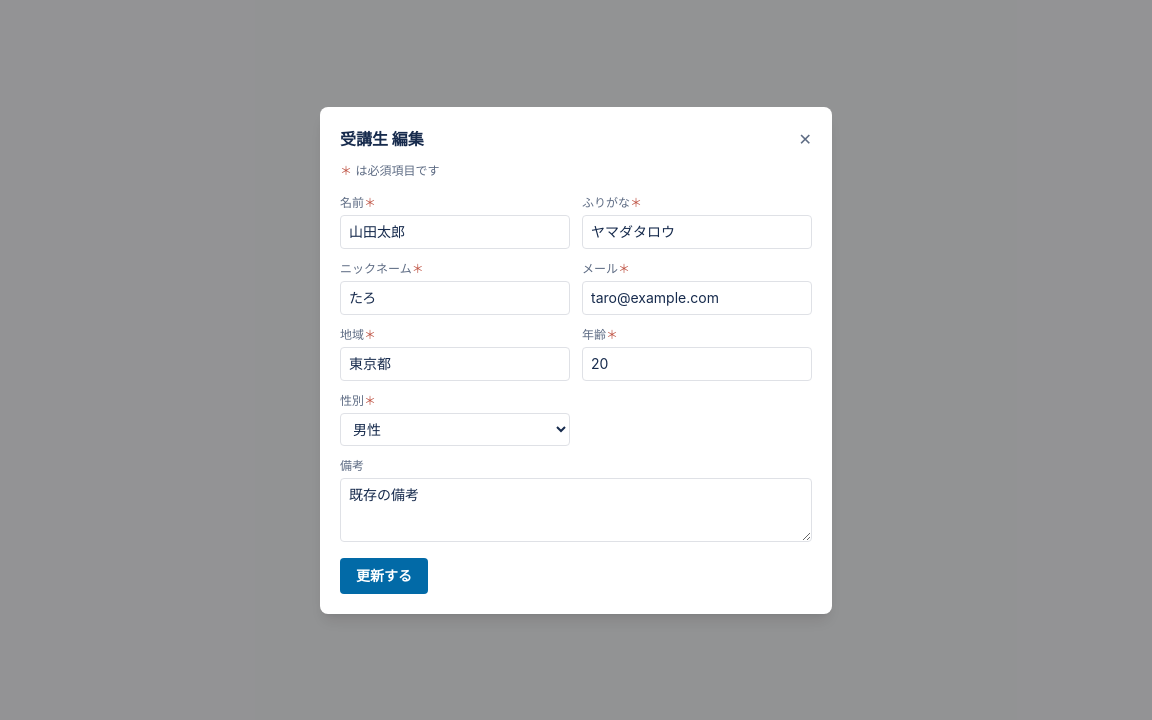
Scenario: EditStudentModal › shows a validation error when a required field is cleared
Clear the field labelled "名前＊" at (455, 232), box [340,214,570,248]
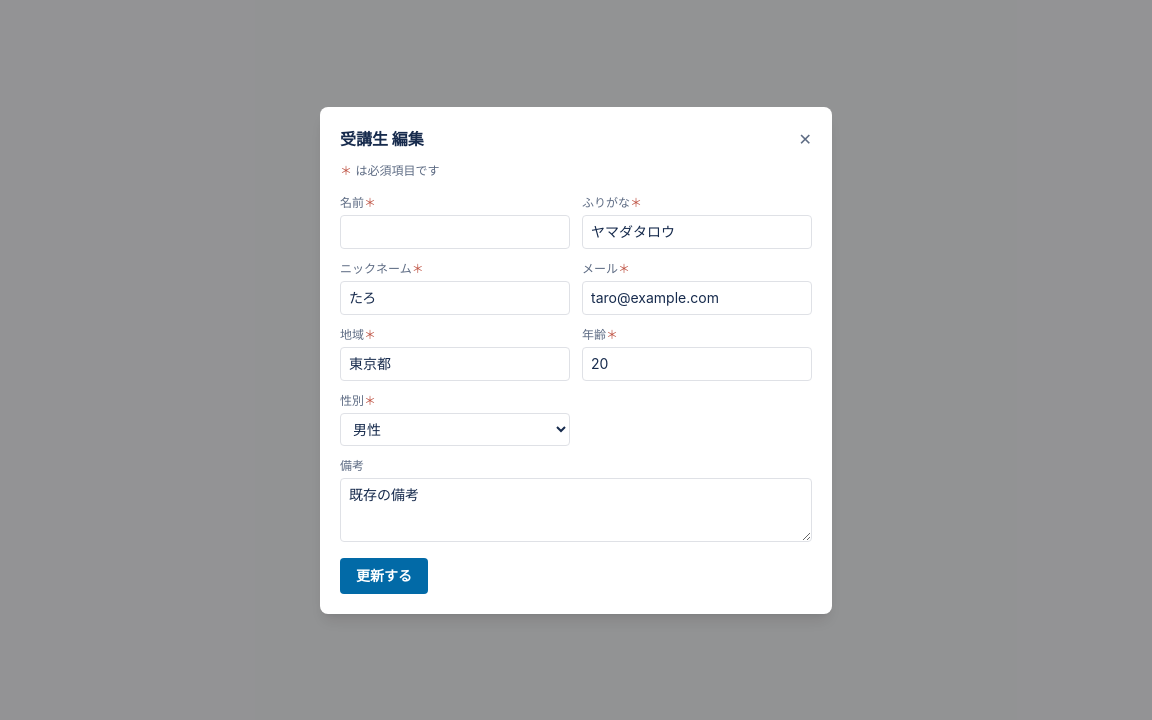
Click the button "更新する" at (384, 576), box [340,558,428,594]
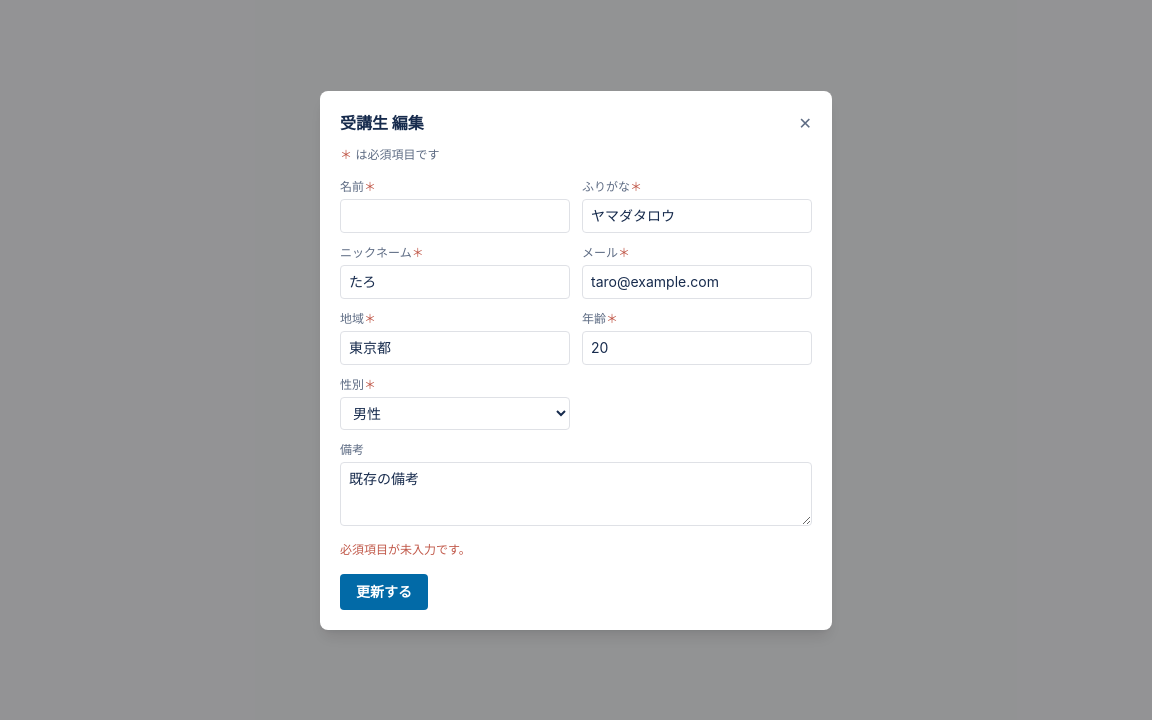
Check: the text "必須項目が未入力です。" is shown, box [340,542,471,556]
